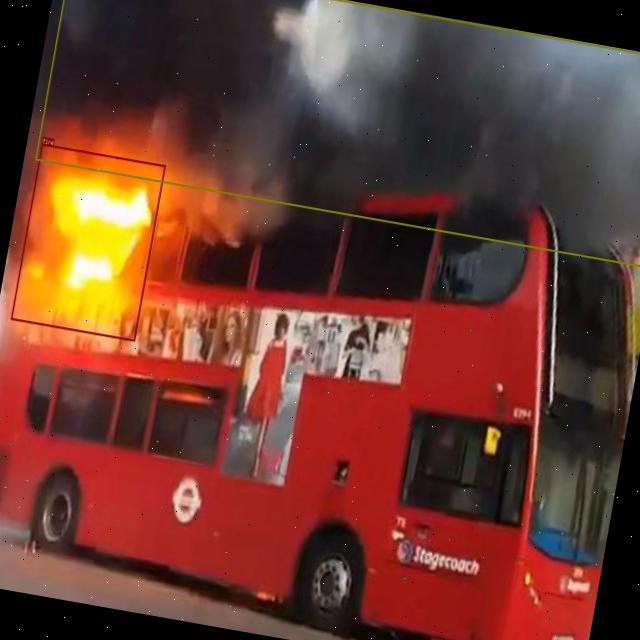fire: (11, 143, 166, 341)
smoke: (34, 0, 640, 268)
